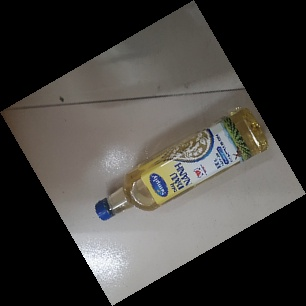Simply: (89, 106, 269, 223)
